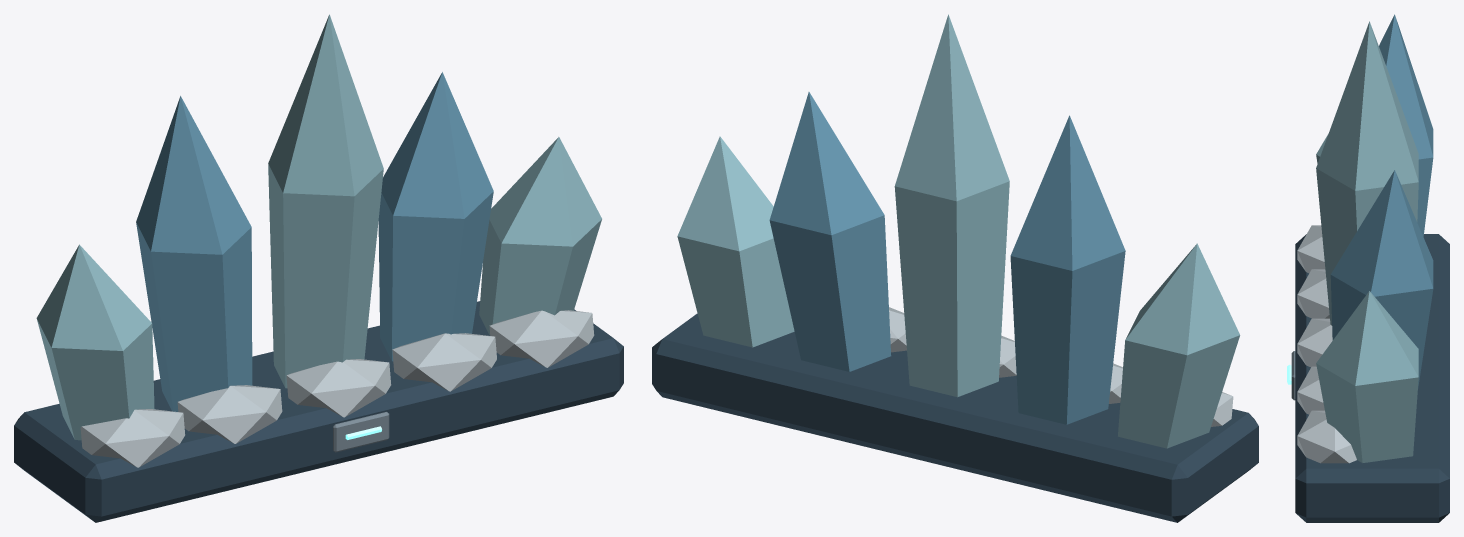
Rendered from wastes_ice_barricade.glb.
The picture shows the model from 3 angles, left to right: view 1: azimuth 30°, elevation 25°; view 2: azimuth 150°, elevation 25°; view 3: azimuth 270°, elevation 25°; orthographic projection. The views are drawn at different scales.
Parts seen in each view (by area): view 1: wastes_ice_barricade; view 2: wastes_ice_barricade; view 3: wastes_ice_barricade.
Part boxes in pixels (box(x1,y1,x2,y2)): wastes_ice_barricade: box(14, 14, 623, 522); wastes_ice_barricade: box(652, 14, 1258, 522); wastes_ice_barricade: box(1287, 14, 1449, 522).
Size of the model in its own units: 1.87 by 1.36 by 0.5166.
